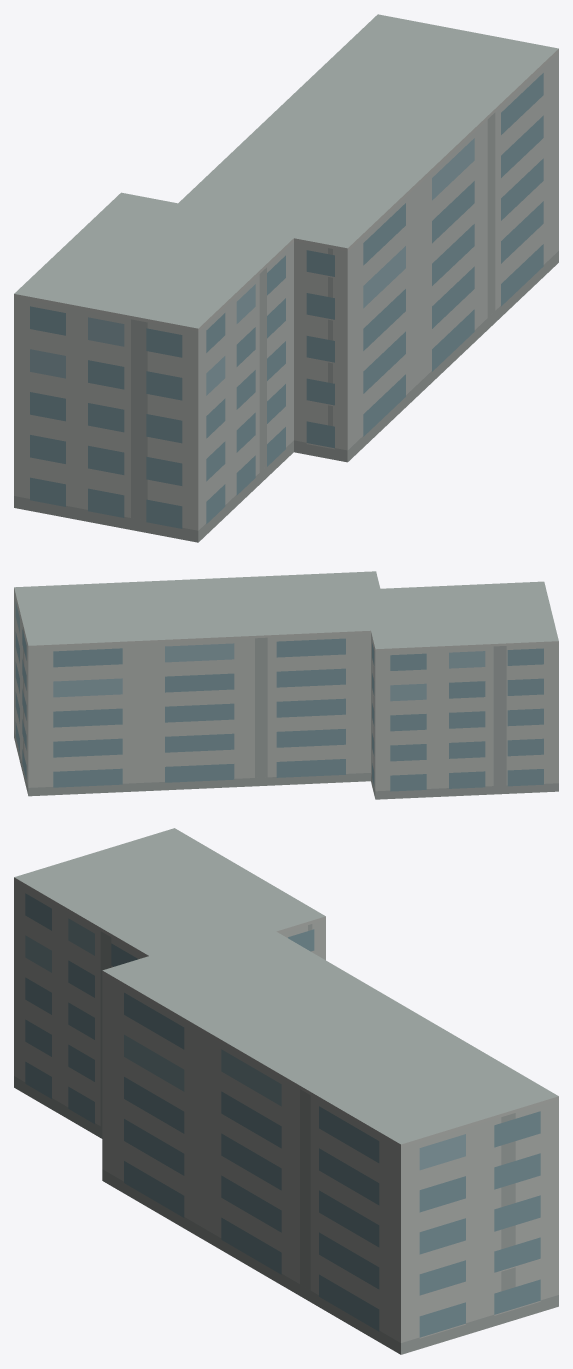
File: residential-c88c976f-3b8d-4807-9118-3a2d3ef2c501.glb
3 views of the same model, one above another, from view 1: azimuth 30°, elevation 25°; view 2: azimuth 150°, elevation 25°; view 3: azimuth 270°, elevation 25° (orthographic). The views are drawn at different scales.
Visible parts, largest first — view 1: residential-c88c976f-3b8d-4807-9118-3a2d3ef2c501.tmp; view 2: residential-c88c976f-3b8d-4807-9118-3a2d3ef2c501.tmp; view 3: residential-c88c976f-3b8d-4807-9118-3a2d3ef2c501.tmp.
Part boxes in pixels (x1,y1,x2,y2): residential-c88c976f-3b8d-4807-9118-3a2d3ef2c501.tmp: [14, 14, 558, 542]; residential-c88c976f-3b8d-4807-9118-3a2d3ef2c501.tmp: [14, 571, 558, 799]; residential-c88c976f-3b8d-4807-9118-3a2d3ef2c501.tmp: [14, 828, 558, 1354].
Size of the model in its own units: 49.22 by 15.25 by 35.81.
